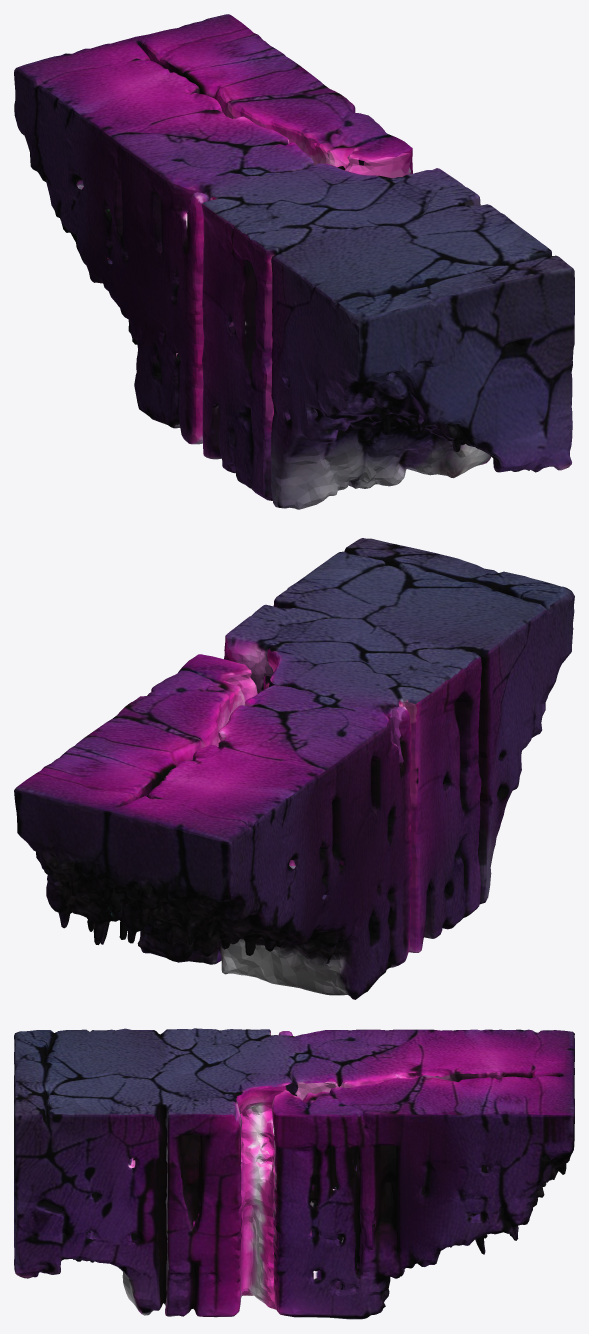
File: shelf-break-5-generated-2026-05-17T20-47-17-100Z.glb
3 renders of one model, top to bottom at view 1: azimuth 30°, elevation 25°; view 2: azimuth 150°, elevation 25°; view 3: azimuth 270°, elevation 25°, orthographic. The views are drawn at different scales.
Parts seen in each view (by area): view 1: temp_mesh.ply; view 2: temp_mesh.ply; view 3: temp_mesh.ply.
Part boxes in pixels (x1,y1,x2,y2): temp_mesh.ply: (14,14,574,509); temp_mesh.ply: (14,538,574,999); temp_mesh.ply: (14,1028,574,1319).
Size of the model in its own units: 0.7297 by 0.8176 by 1.97.
Materials: 1 (1 with a texture image).
